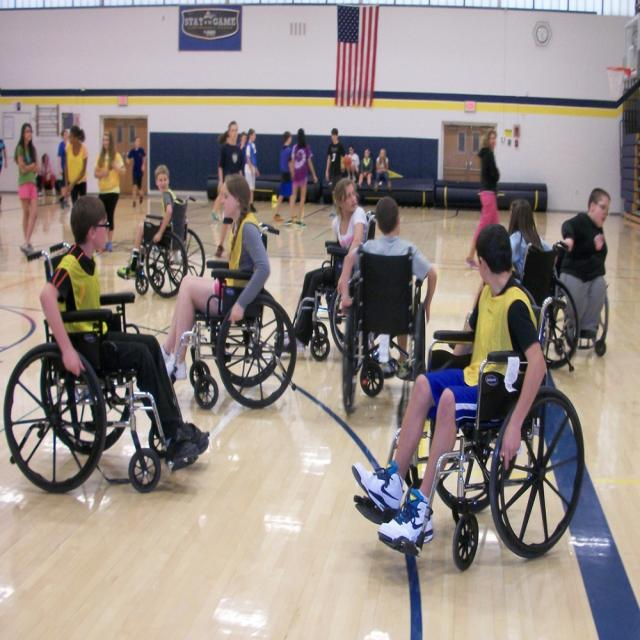body: (350, 220, 548, 558), (38, 192, 210, 474), (150, 170, 272, 387), (336, 194, 438, 379), (273, 175, 369, 354), (560, 186, 612, 348), (116, 164, 177, 280), (464, 126, 502, 270), (93, 128, 127, 252), (215, 119, 245, 257), (506, 198, 554, 284), (12, 121, 40, 256), (284, 126, 318, 230), (272, 130, 300, 226), (64, 123, 89, 206), (243, 126, 261, 213), (125, 134, 146, 208), (325, 127, 348, 194), (56, 129, 72, 211), (372, 146, 392, 195), (39, 152, 56, 196), (357, 147, 373, 191), (0, 134, 7, 200), (348, 144, 360, 176), (236, 131, 248, 150)
